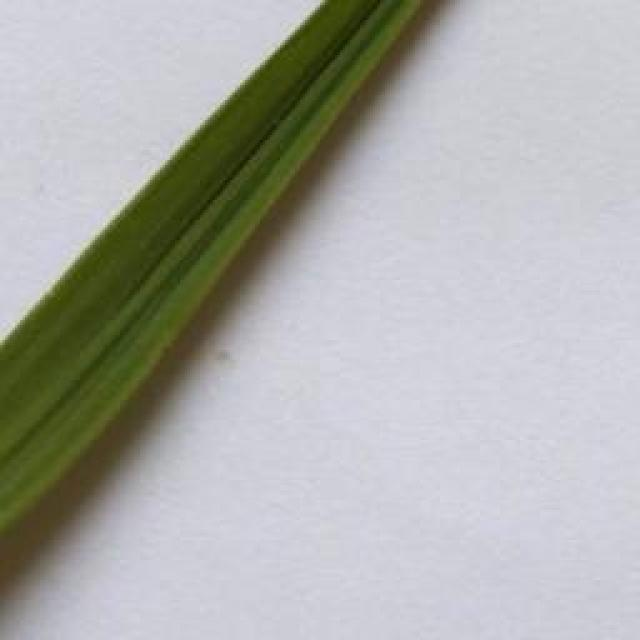Healthy-Plant: (0, 0, 422, 527)
